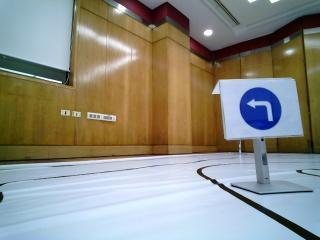left: (225, 81, 297, 133)
